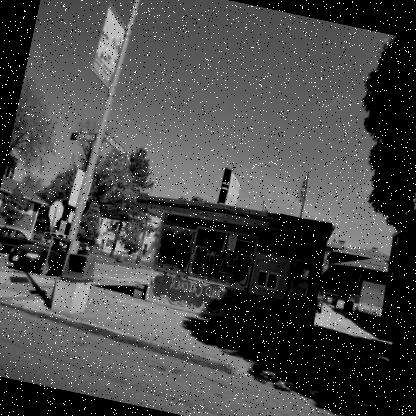Car: (5, 228, 89, 284), (0, 222, 41, 262)
